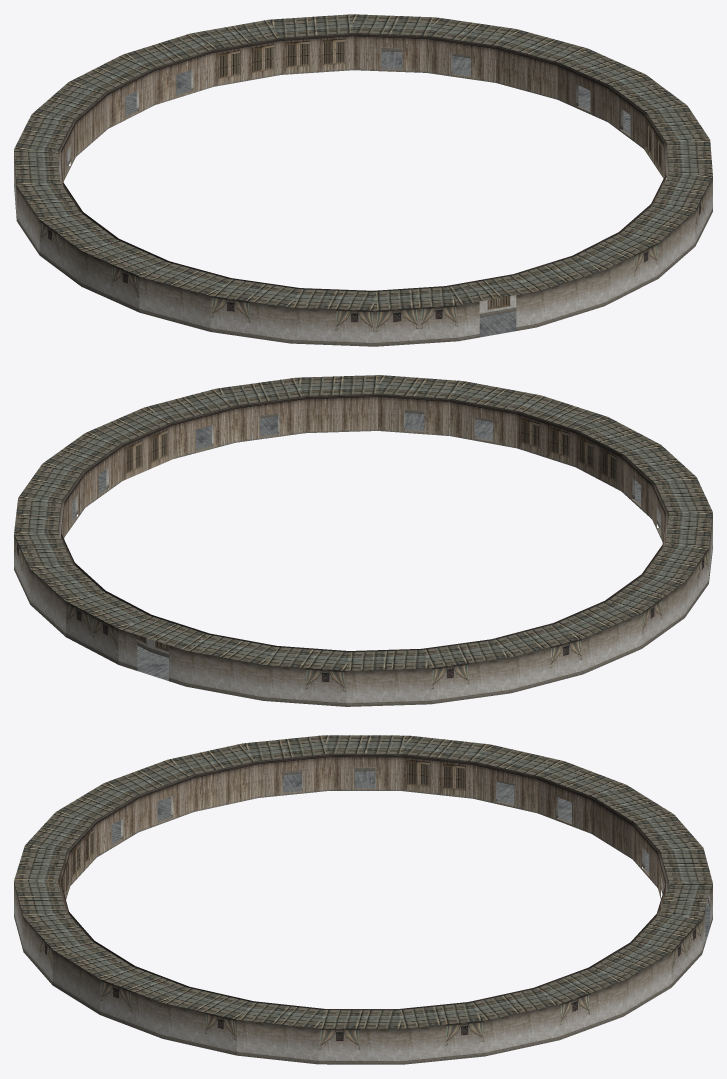
The picture shows the model from 3 angles, top to bottom: view 1: azimuth 30°, elevation 25°; view 2: azimuth 150°, elevation 25°; view 3: azimuth 270°, elevation 25°; orthographic projection.
Parts seen in each view (by area): view 1: Box64; view 2: Box64; view 3: Box64.
Part boxes in pixels (box(x1,y1,x2,y2)): Box64: box(14, 14, 712, 346); Box64: box(14, 375, 712, 706); Box64: box(14, 735, 712, 1064).
Size of the model in its own units: 1761 by 101 by 1772.
